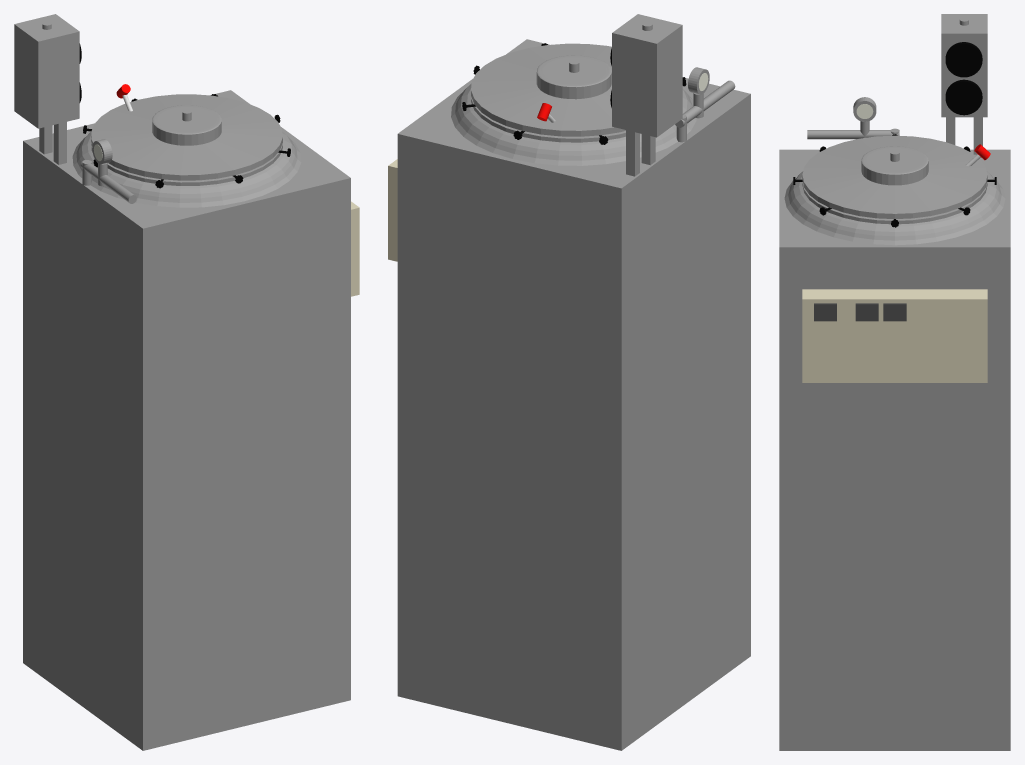
The picture shows the model from 3 angles, left to right: view 1: azimuth 30°, elevation 25°; view 2: azimuth 150°, elevation 25°; view 3: azimuth 270°, elevation 25°; orthographic projection. The views are drawn at different scales.
Parts seen in each view (by area): view 1: Cube, Cylinder.001, Cube.002, Cylinder, Cube.001, Cylinder.015; view 2: Cube, Cylinder.001, Cube.002, Cylinder, Cube.001, Cylinder.015, Cube.003; view 3: Cube, Cube.001, Cylinder.001, Cylinder, Cube.002, Cylinder.003, Cylinder.002, Cylinder.015, Cube.007, Cube.006, Cube.005.
Part boxes in pixels (x1=…): Cube: x1=23, y1=90, x2=350, y2=750; Cylinder.001: x1=91, y1=94, x2=282, y2=185; Cube.002: x1=14, y1=14, x2=79, y2=128; Cylinder: x1=72, y1=131, x2=301, y2=207; Cube.001: x1=351, y1=201, x2=359, y2=296; Cylinder.015: x1=80, y1=160, x2=136, y2=203; Cube: x1=397, y1=39, x2=750, y2=750; Cylinder.001: x1=471, y1=43, x2=625, y2=142; Cube.002: x1=612, y1=14, x2=682, y2=137; Cylinder: x1=451, y1=83, x2=696, y2=165; Cube.001: x1=388, y1=159, x2=397, y2=261; Cylinder.015: x1=675, y1=80, x2=735, y2=127; Cube.003: x1=626, y1=130, x2=639, y2=176; Cube: x1=779, y1=149, x2=1010, y2=750; Cube.001: x1=802, y1=289, x2=987, y2=382; Cylinder.001: x1=802, y1=135, x2=987, y2=224; Cylinder: x1=784, y1=171, x2=1005, y2=245; Cube.002: x1=941, y1=14, x2=987, y2=117; Cylinder.003: x1=945, y1=42, x2=982, y2=77; Cylinder.002: x1=945, y1=79, x2=982, y2=115; Cylinder.015: x1=807, y1=130, x2=899, y2=139; Cube.007: x1=883, y1=303, x2=906, y2=321; Cube.006: x1=855, y1=303, x2=878, y2=321; Cube.005: x1=814, y1=303, x2=836, y2=321.
Bounding box in the file's own units: 6.05 × 15.1 × 5.
